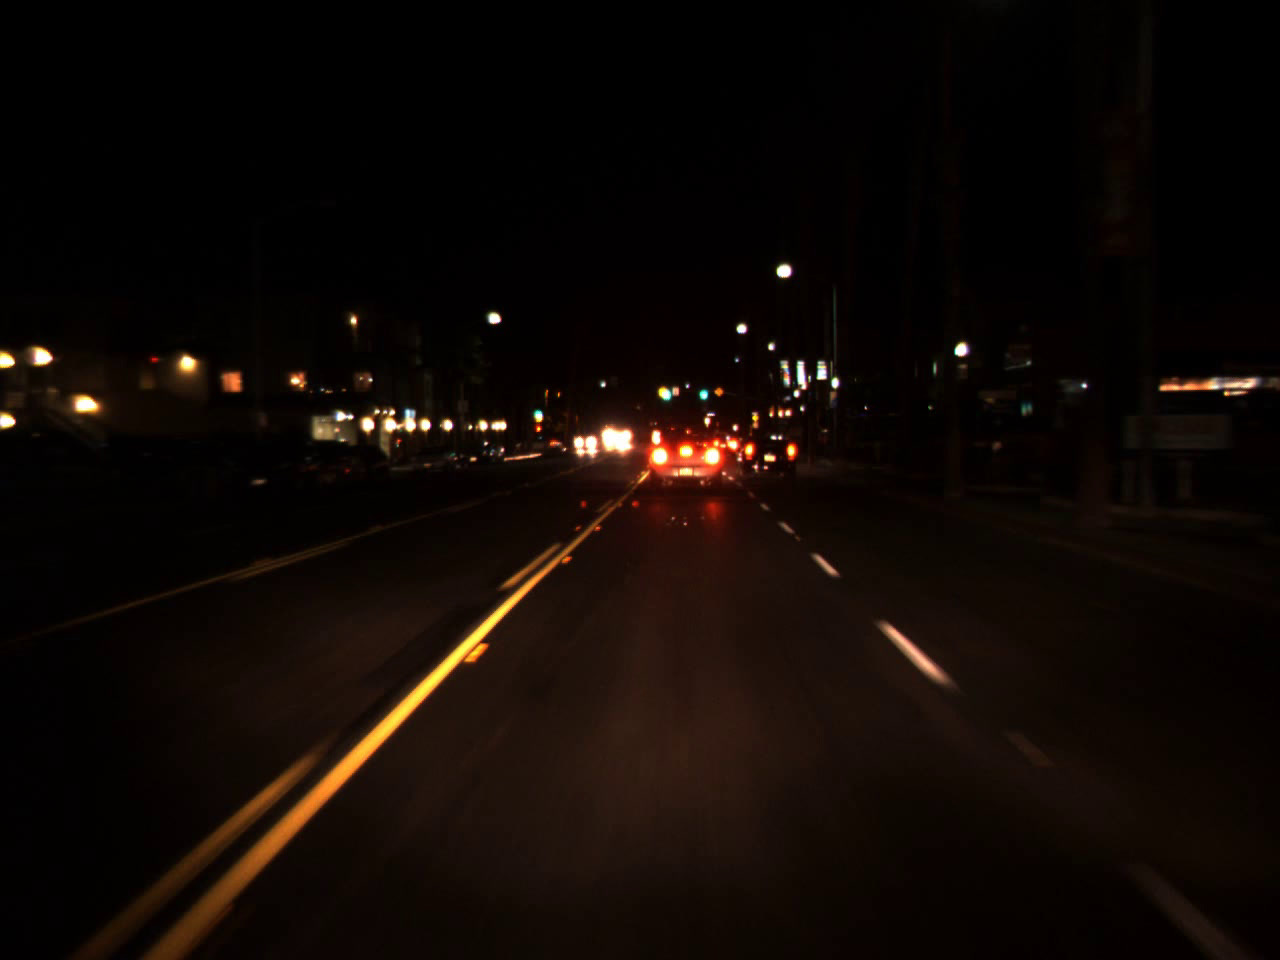go: (658, 378, 670, 402), (696, 379, 708, 403), (533, 404, 543, 416)
